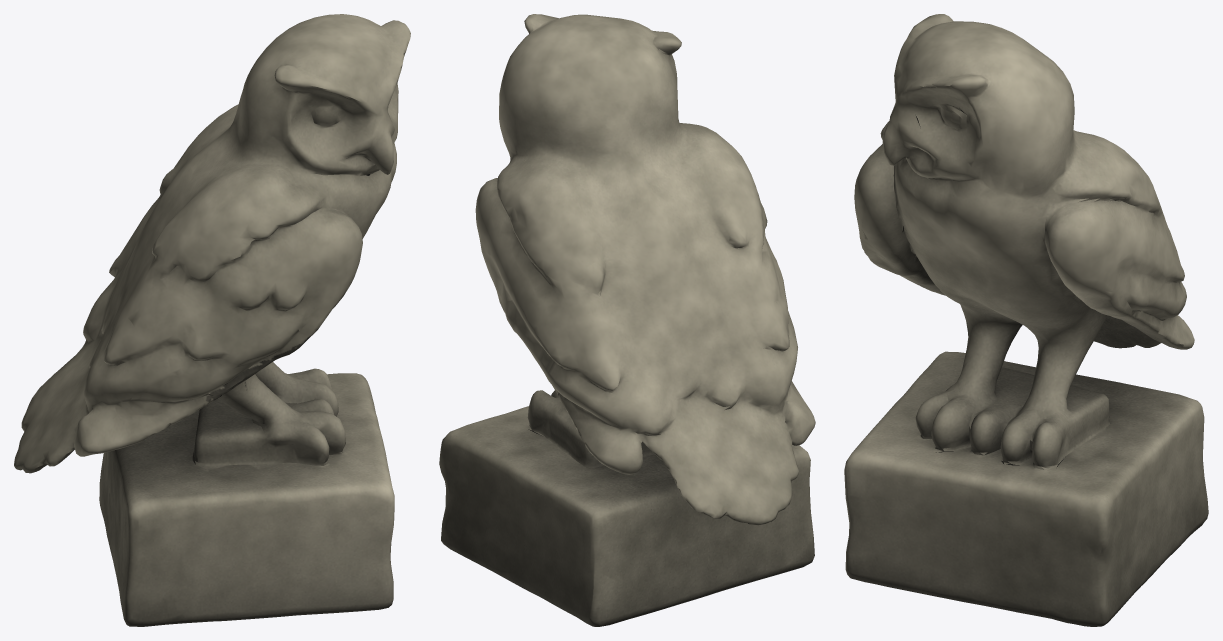
File: owl-statue-v002.glb
3 views of the same model, side by side, from view 1: azimuth 30°, elevation 25°; view 2: azimuth 150°, elevation 25°; view 3: azimuth 270°, elevation 25° (orthographic). The views are drawn at different scales.
Visible parts, largest first — view 1: owl-statue; view 2: owl-statue; view 3: owl-statue.
Part boxes in pixels (x1,y1,x2,y2): owl-statue: (14, 14, 410, 626); owl-statue: (439, 14, 815, 626); owl-statue: (844, 14, 1208, 626).
Bounding box in the file's own units: 0.3473 × 0.5 × 0.3003.
Materials: 1 (1 with a texture image).
